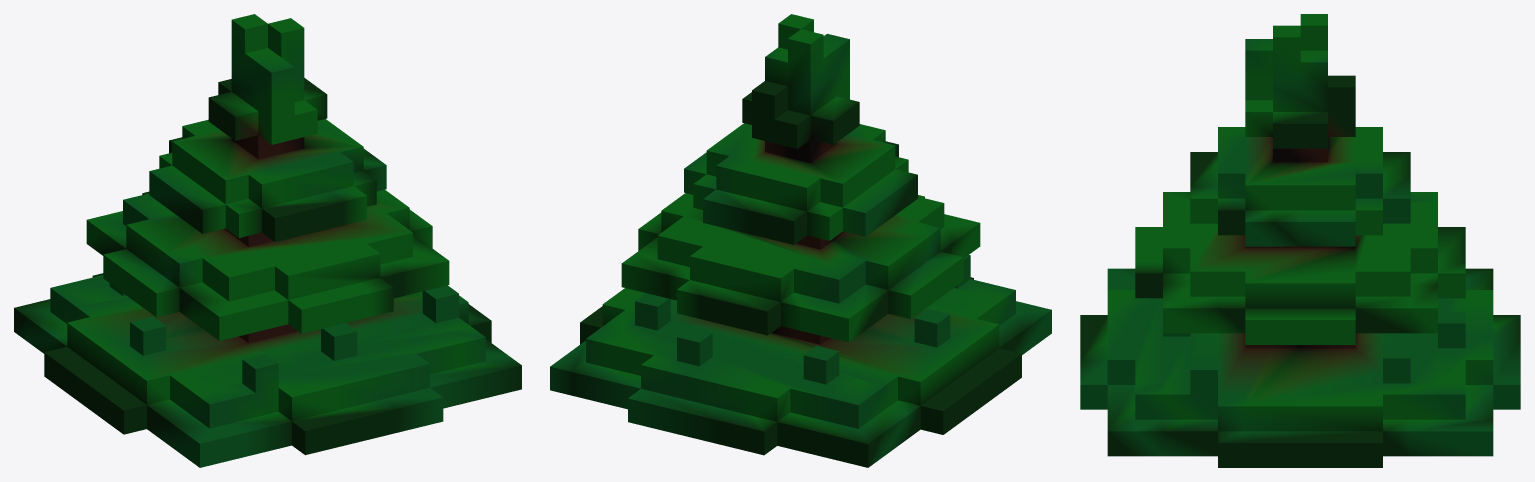
File: Tree_3.fbx
The picture shows the model from 3 angles, left to right: view 1: azimuth 30°, elevation 25°; view 2: azimuth 150°, elevation 25°; view 3: azimuth 270°, elevation 25°; orthographic projection. The views are drawn at different scales.
Parts seen in each view (by area): view 1: Tree_3; view 2: Tree_3; view 3: Tree_3.
Boxes of the visible parts, x1,y1,x2,y2 form: Tree_3: (14, 14, 521, 467); Tree_3: (550, 14, 1051, 467); Tree_3: (1080, 14, 1520, 467).
Bounding box in the file's own units: 160 × 160 × 160.
